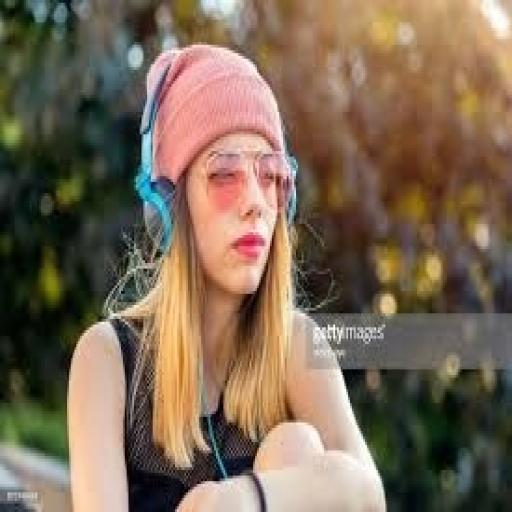listening_to_music: (63, 42, 389, 509)
